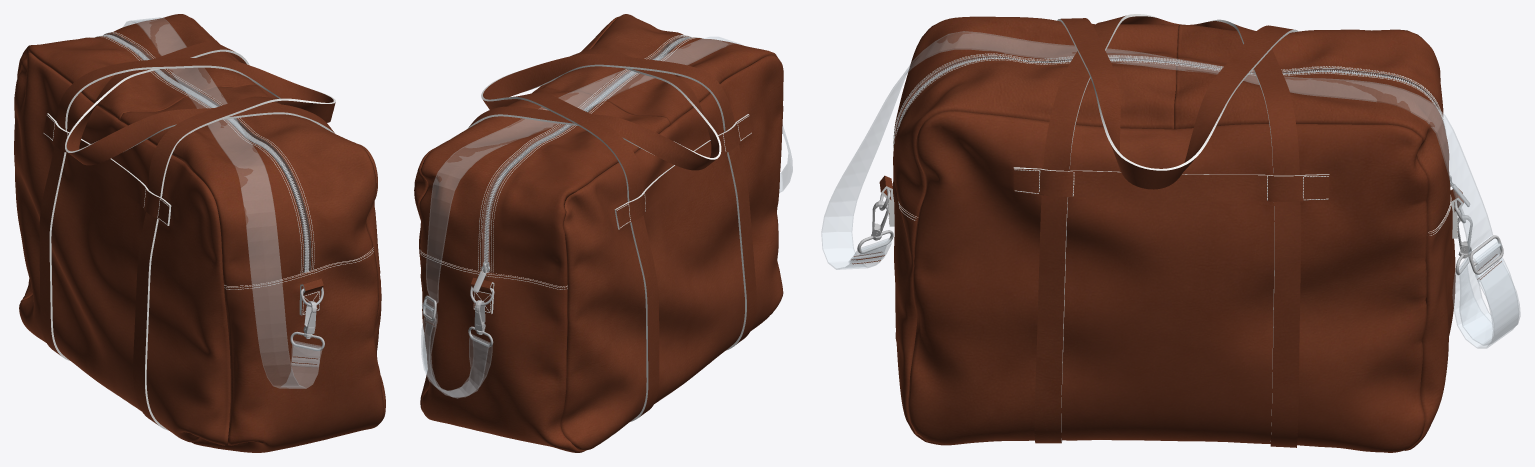
The model's file is zara-leather-bag.glb.
3 views of the same model, side by side, from view 1: azimuth 30°, elevation 25°; view 2: azimuth 150°, elevation 25°; view 3: azimuth 270°, elevation 25° (orthographic). The views are drawn at different scales.
Parts seen in each view (by area): view 1: ZARA BAG, Box331, Sphere002, nitka 2, nitka 3; view 2: ZARA BAG, Box331, Sphere002, nitka 3, nitka 2; view 3: ZARA BAG, Box331, nitka 3, nitka 2, Sphere002.
Part boxes in pixels (x1,y1,x2,y2): ZARA BAG: (14,14,385,452); Box331: (123,17,321,388); Sphere002: (102,34,309,272); nitka 2: (95,35,303,273); nitka 3: (105,32,314,270); ZARA BAG: (414,14,783,452); Box331: (421,37,792,398); Sphere002: (484,37,691,272); nitka 3: (478,35,691,270); nitka 2: (490,37,702,272); ZARA BAG: (872,14,1501,452); Box331: (821,31,1520,348); nitka 3: (897,58,1446,135); nitka 2: (893,53,1443,147); Sphere002: (896,57,1435,135).
Size of the model in its own units: 0.3319 by 0.3705 by 0.6606.
Materials: 7 (2 with a texture image).
